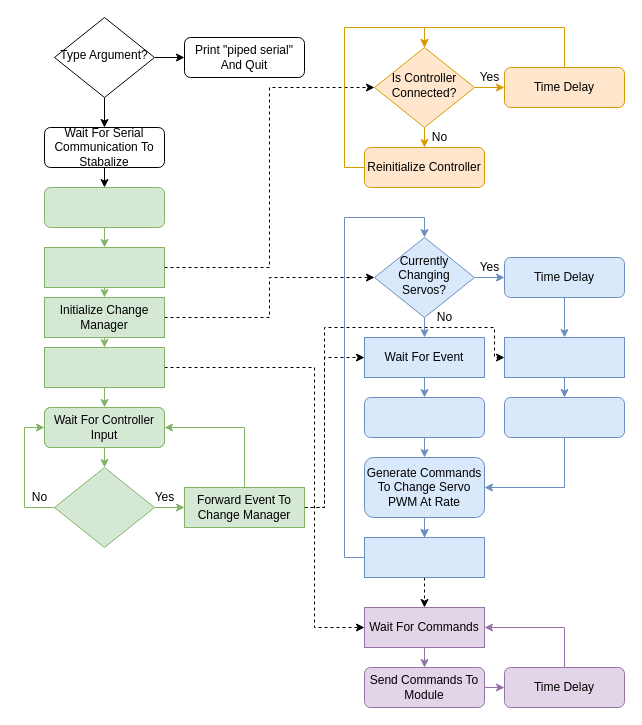
Some shapes in this 642 by 725 pixel diagram are drawn without their labels. Here are the shapes that lost their labels. From the top down, the centre of each, then its label:
At point 104,207: "Initialize Pygame And Controller".
At point 104,267: "Initialize Controller Manager".
At point 104,367: "Initialize Comm Manager".
At point 564,357: "Obtain Event If Available".
At point 424,417: "Update Which Servos Are Changing".
At point 564,417: "Update Which Servos Are Changing, If Necessary".
At point 104,507: "Is A Valid Servo Input?".
At point 424,557: "Forward Commands To Comm Manager".
